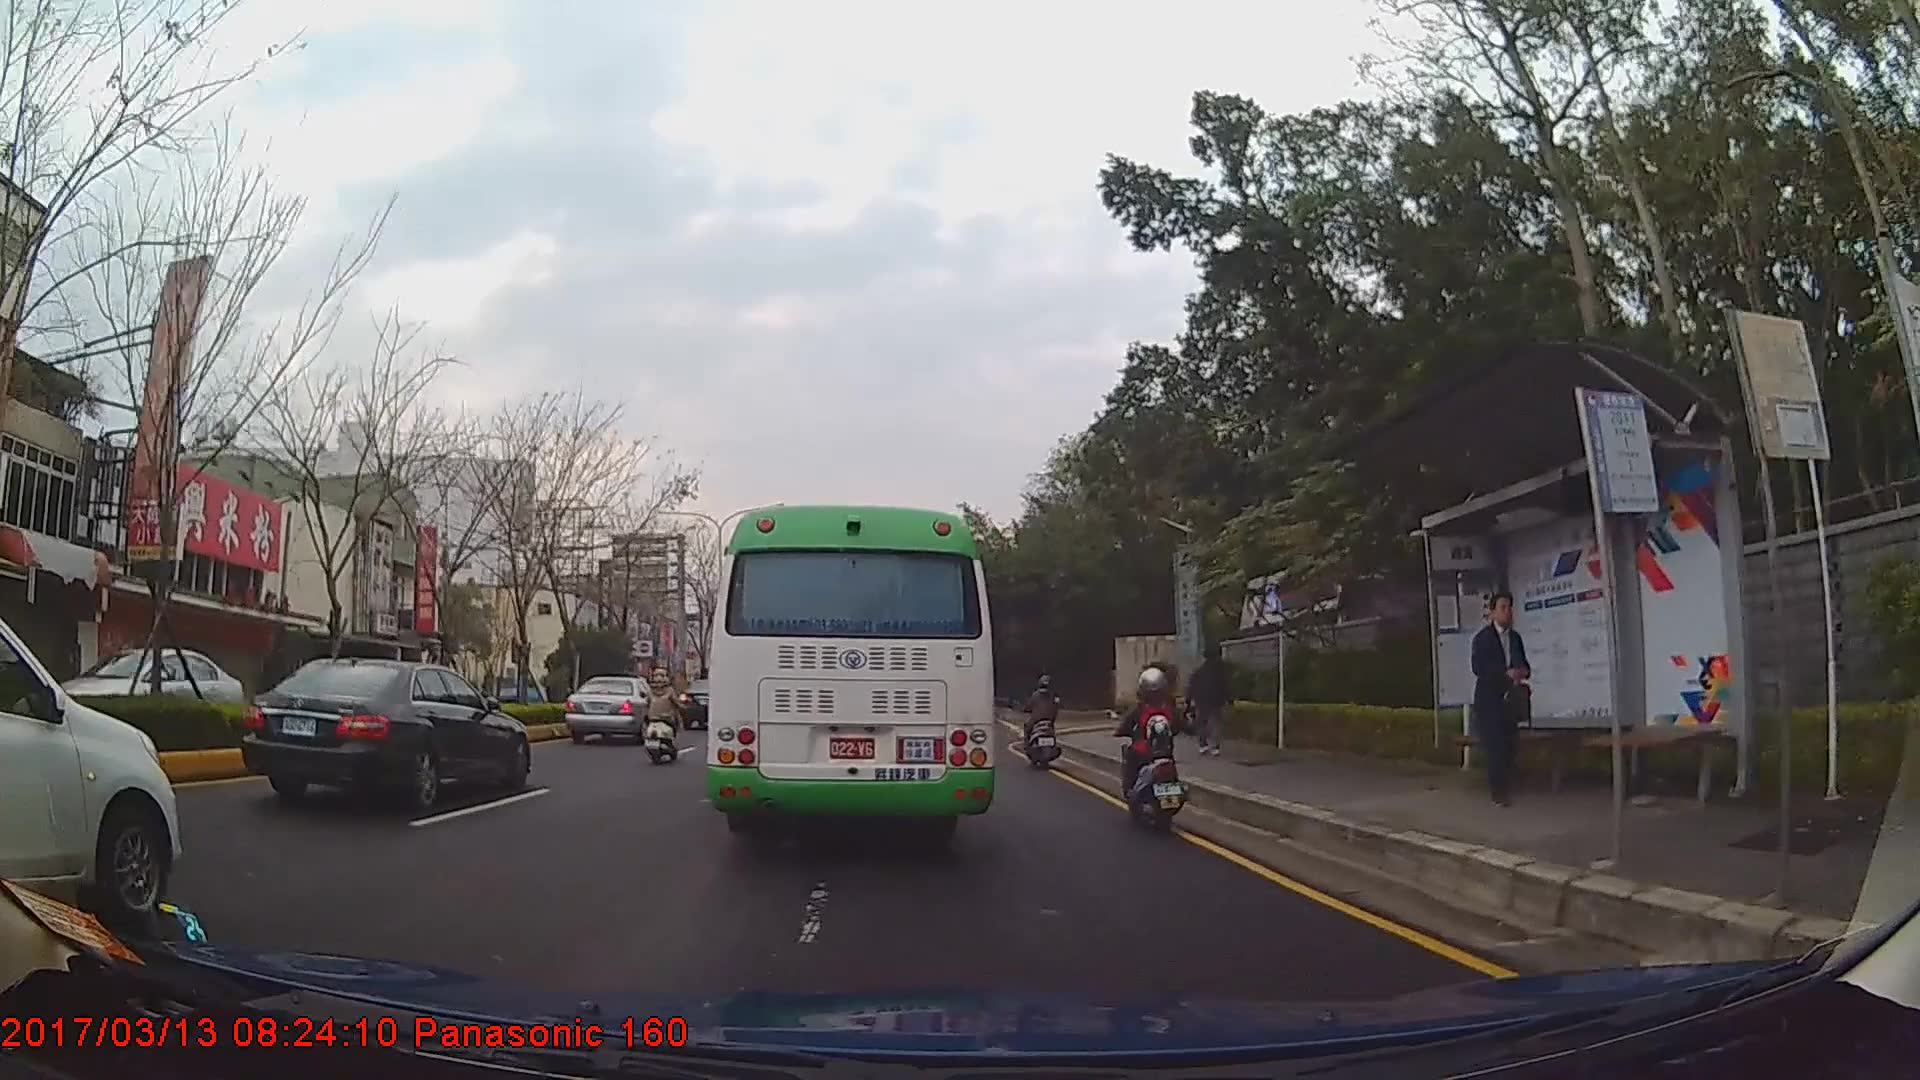pedestrian: (1472, 587, 1543, 806), (1180, 643, 1234, 758)
rider: (1113, 663, 1188, 829), (1020, 670, 1065, 770), (646, 670, 682, 763)
vehicle: (706, 505, 992, 850), (0, 592, 179, 918), (240, 656, 530, 808), (58, 638, 244, 745), (565, 674, 659, 745), (678, 677, 738, 729)
